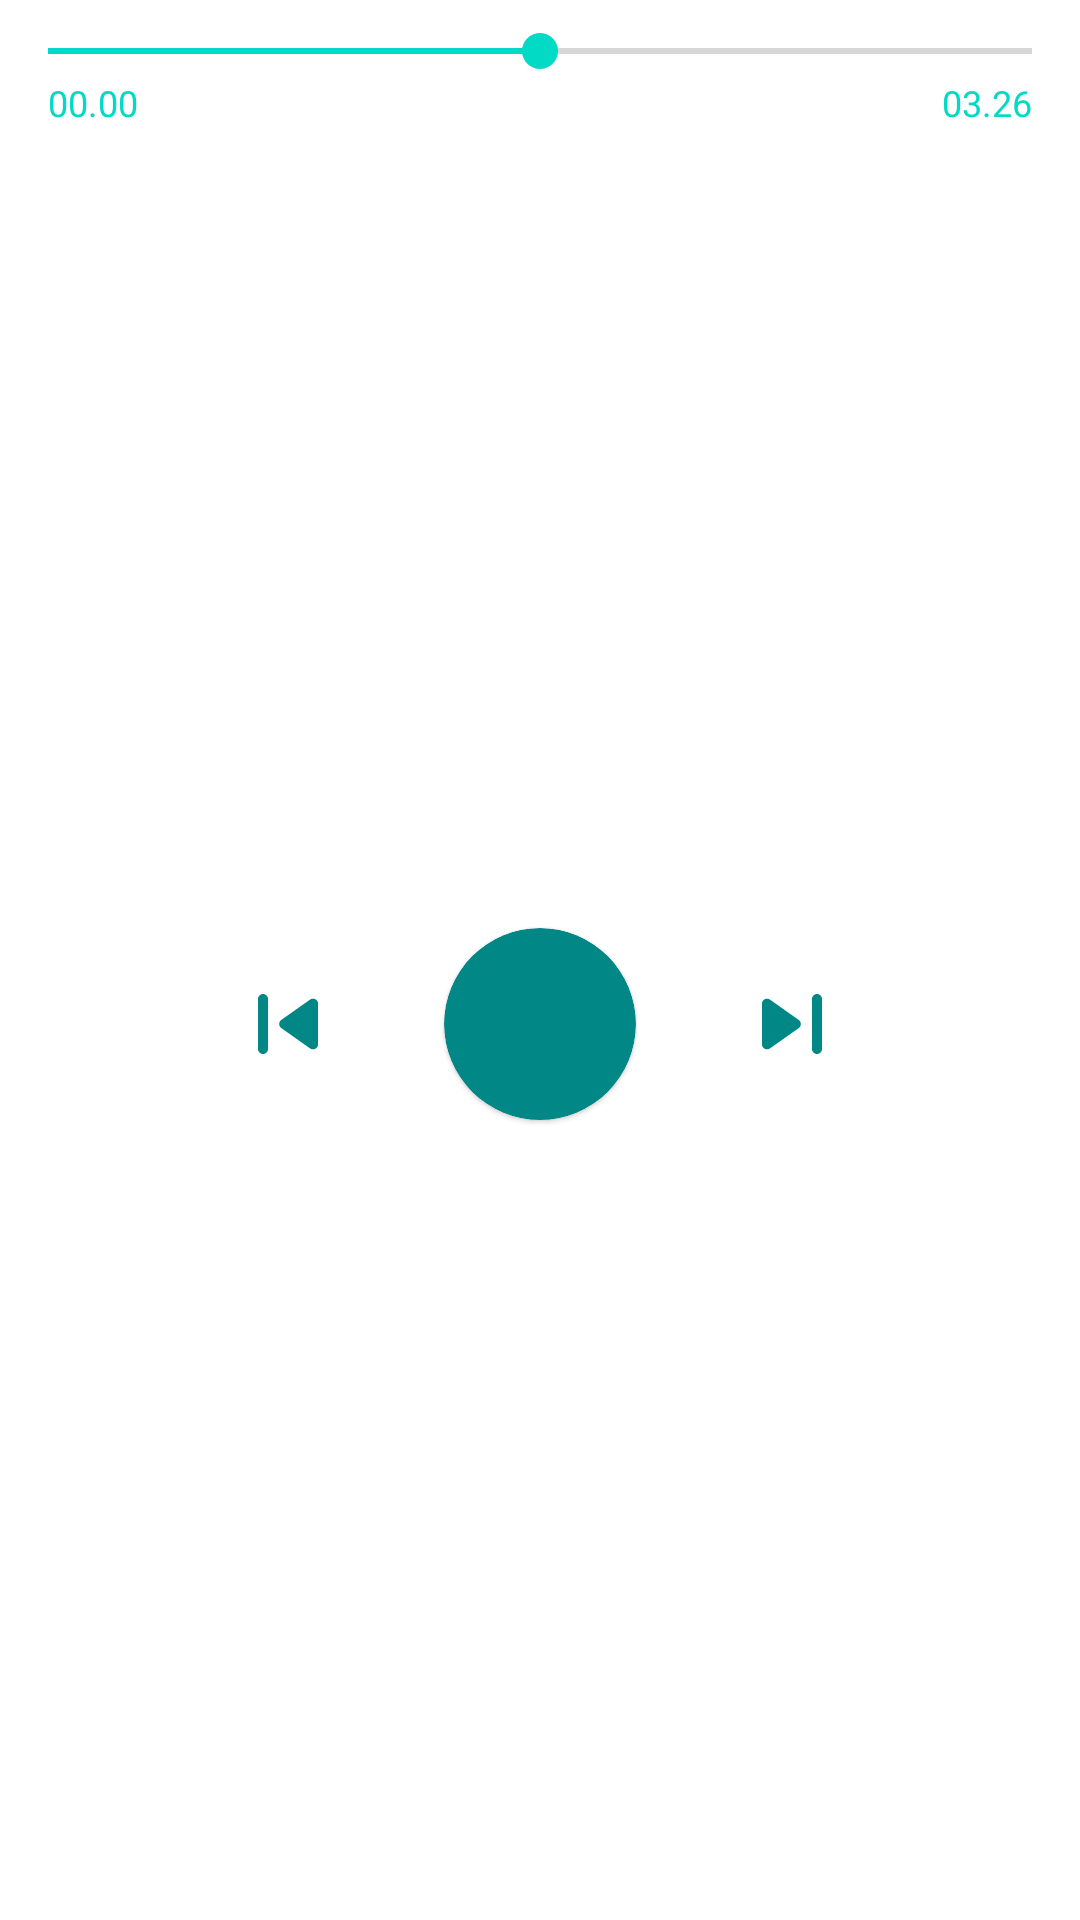

Where icons sit on this 1080 × 1920 app screen, as [x1,y1,x2,y2]:
skip next: [762,994,822,1054]
skip previous: [258,994,318,1054]
